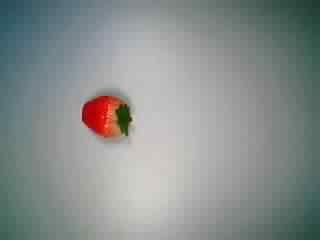strawberry: (72, 87, 134, 151)
